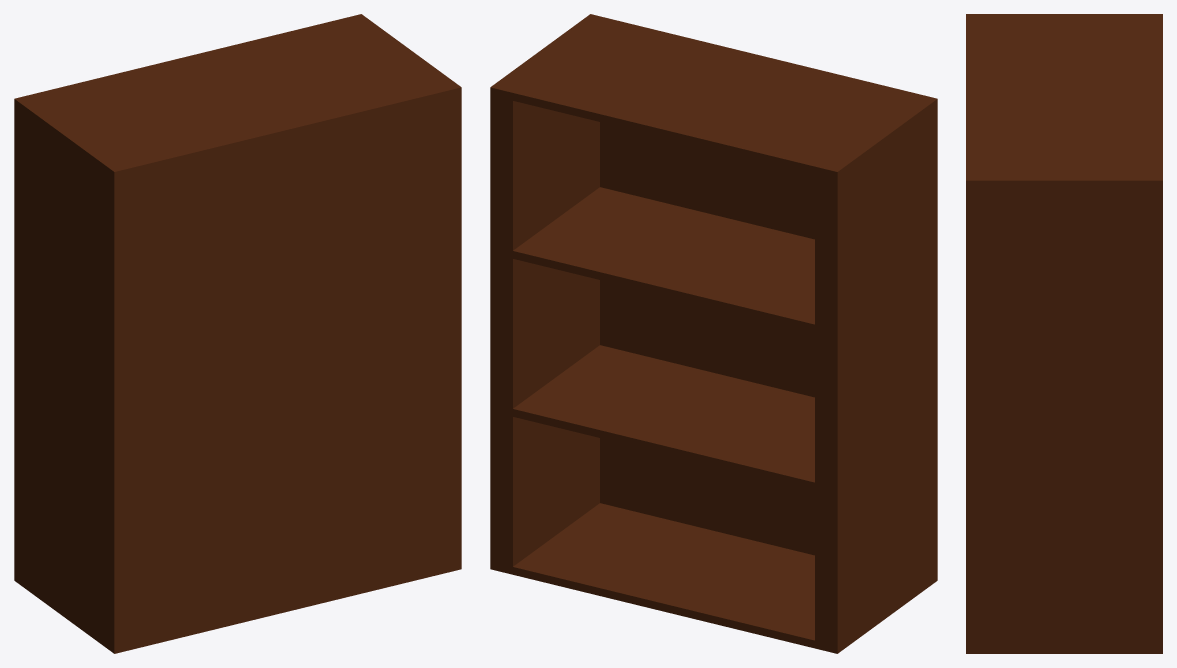
Rendered from Shelf (1).fbx.
3 renders of one model, left to right at view 1: azimuth 30°, elevation 25°; view 2: azimuth 150°, elevation 25°; view 3: azimuth 270°, elevation 25°, orthographic.
Parts seen in each view (by area): view 1: Cube.002; view 2: Cube.002; view 3: Cube.002.
Part boxes in pixels (x1=…): Cube.002: x1=14, y1=14, x2=461, y2=653; Cube.002: x1=490, y1=14, x2=937, y2=653; Cube.002: x1=966, y1=14, x2=1162, y2=653.
Size of the model in its own units: 1840 by 2440 by 920.
Materials: 1 (1 with a texture image).
